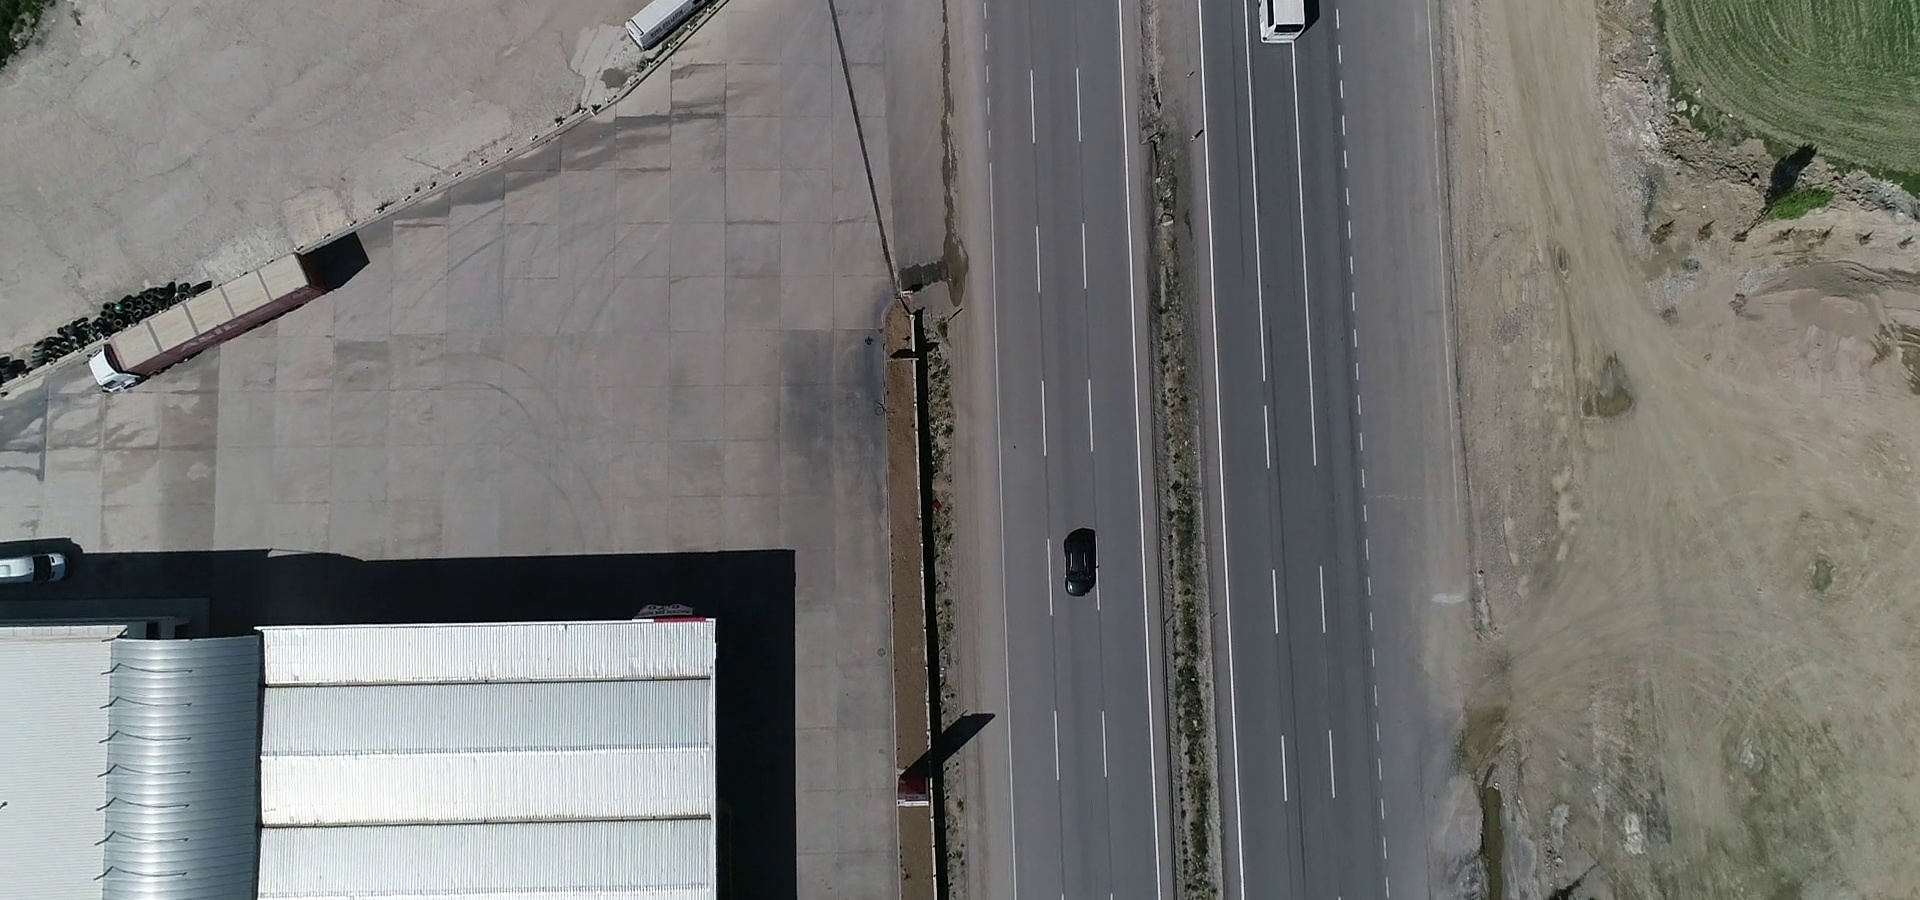araba: (1064, 524, 1098, 599)
otobus: (1247, 1, 1322, 45)
